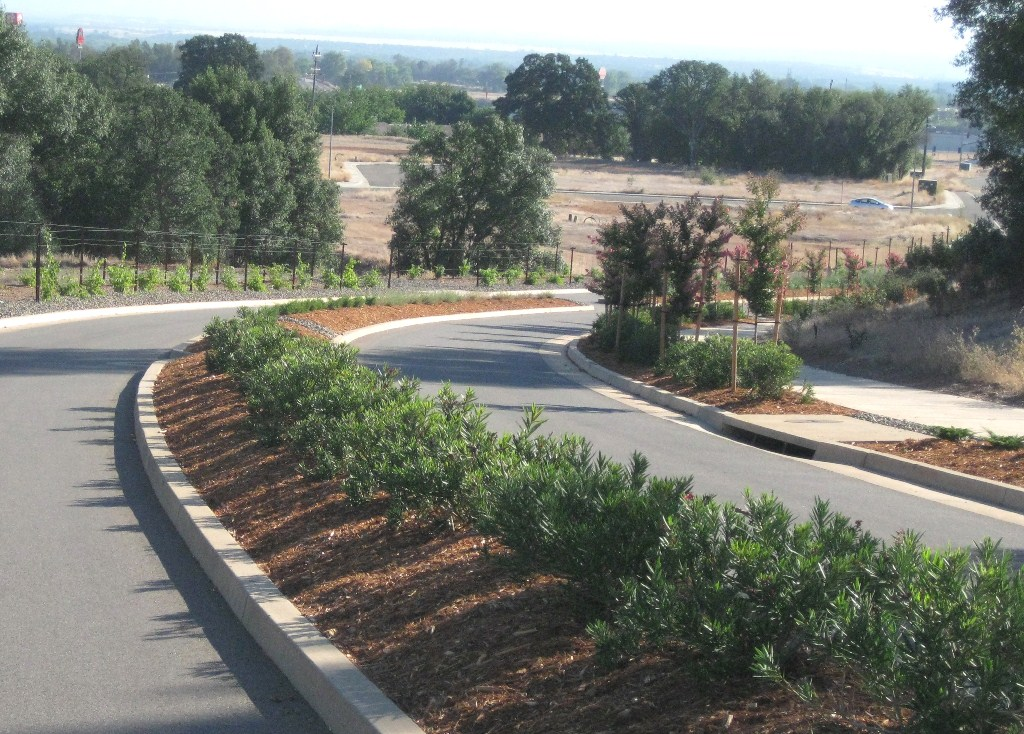plants: (1, 36, 300, 235), (742, 533, 1024, 692), (630, 63, 930, 170), (398, 133, 559, 269), (511, 478, 744, 570), (962, 1, 1024, 287), (612, 217, 670, 347), (669, 206, 727, 336), (737, 187, 795, 317), (525, 52, 620, 128), (319, 91, 480, 127)
